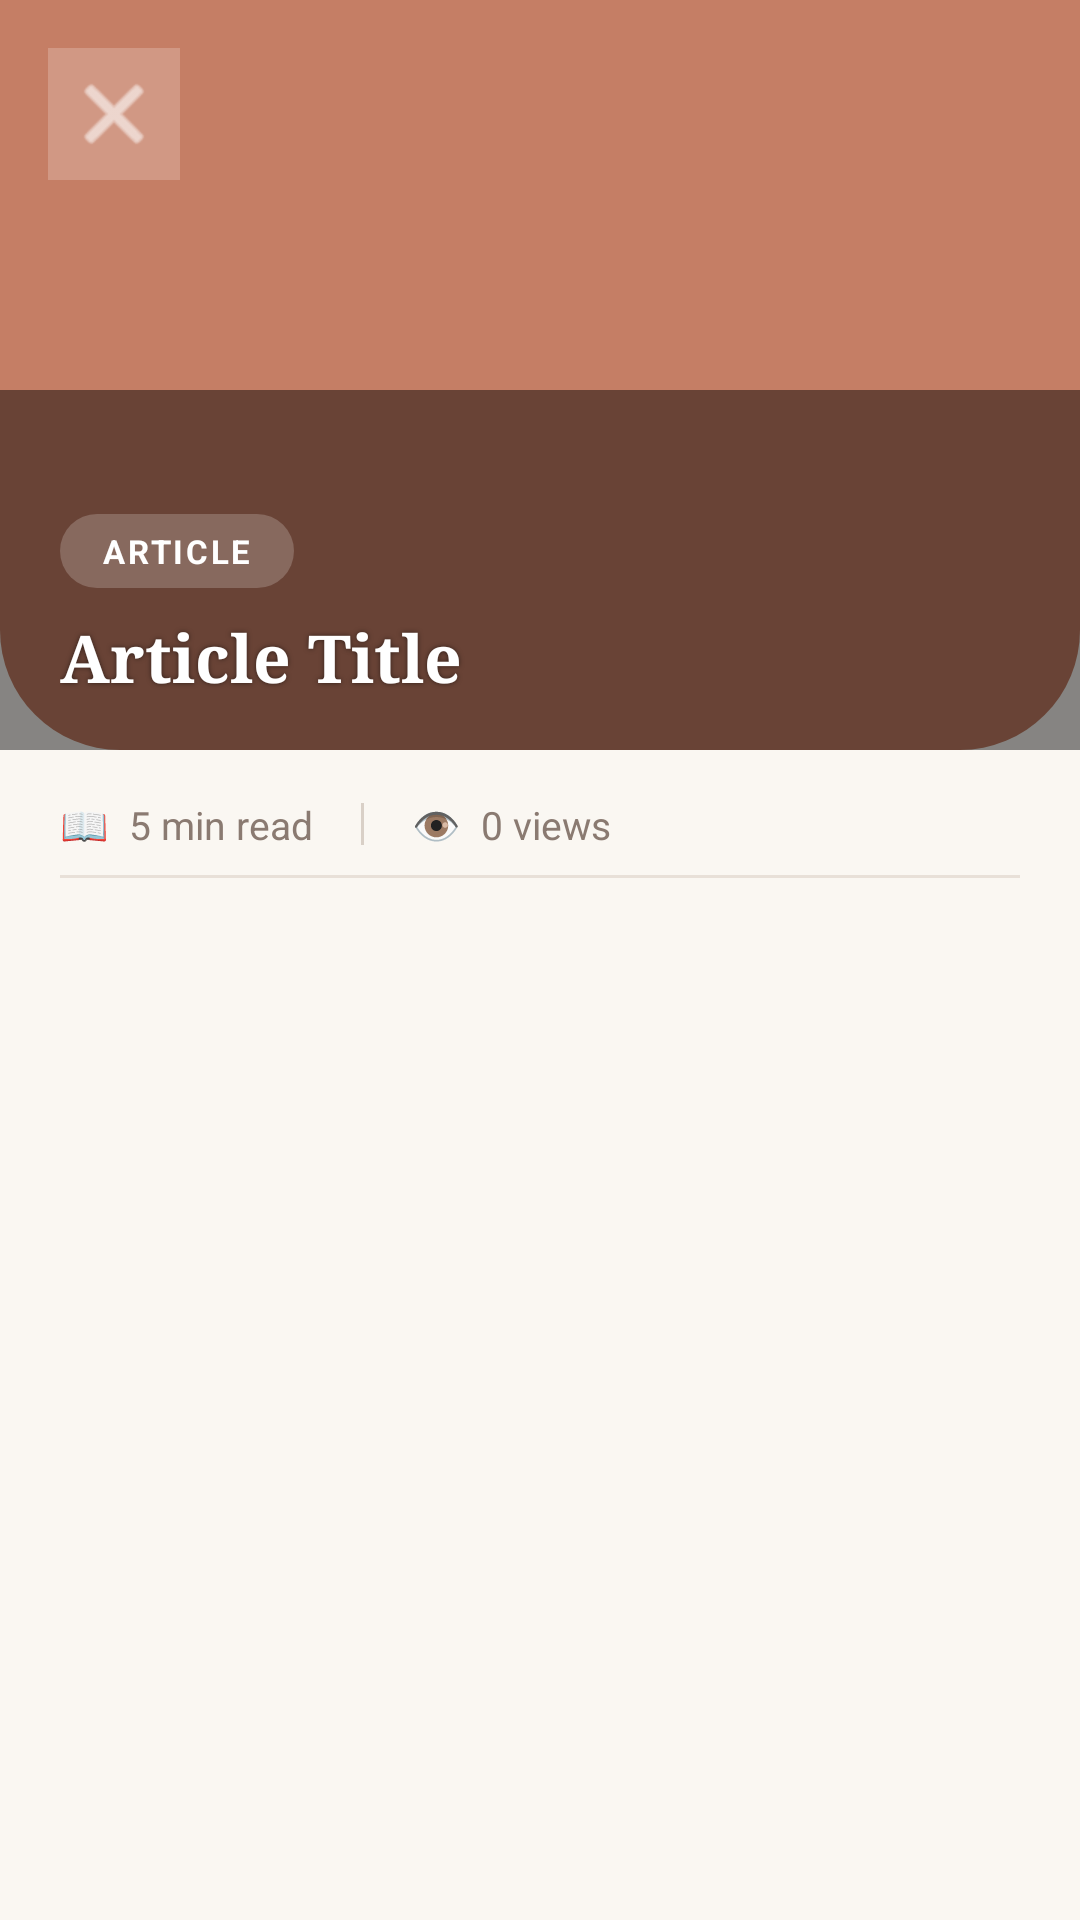

Point at icon controls on the screen. Image size 1080*1920, points as (x,y).
Back: (114,114)
